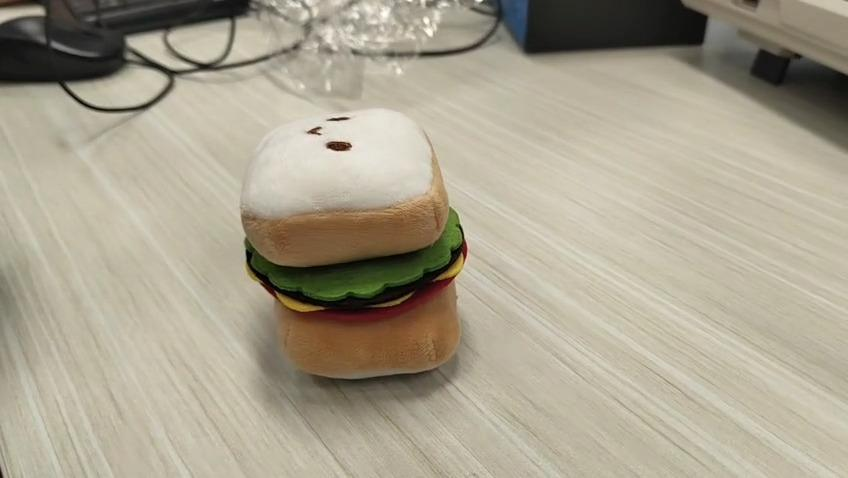objects: (239, 109, 469, 381)
